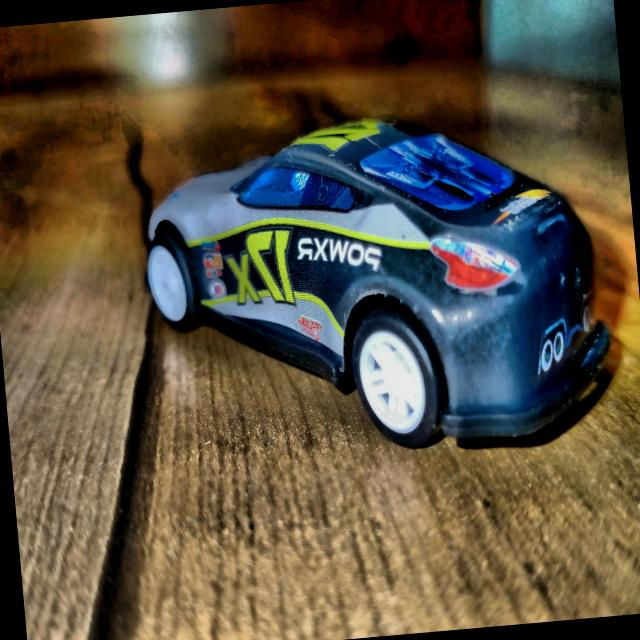Car: (135, 101, 616, 468)
